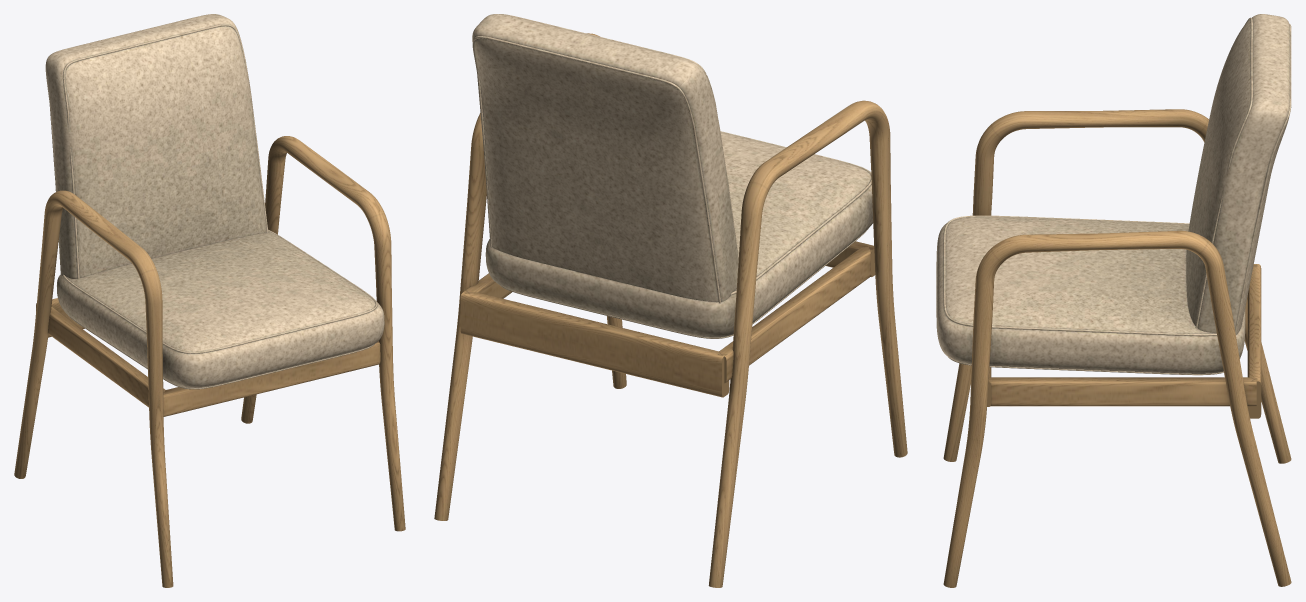
The picture shows the model from 3 angles, left to right: view 1: azimuth 30°, elevation 25°; view 2: azimuth 150°, elevation 25°; view 3: azimuth 270°, elevation 25°; orthographic projection. The views are drawn at different scales.
Visible parts, largest first — view 1: Felix_Neue; view 2: Felix_Neue; view 3: Felix_Neue.
Part boxes in pixels (x1,y1,x2,y2): Felix_Neue: (14,14,405,587); Felix_Neue: (434,14,907,587); Felix_Neue: (936,14,1291,587).
Bounding box in the file's own units: 0.5499 × 0.9 × 0.6204.
2 materials, 2 textured.
